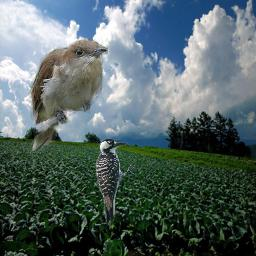Cuckoo: (28, 38, 108, 153)
Woodpecker: (94, 138, 138, 227)
